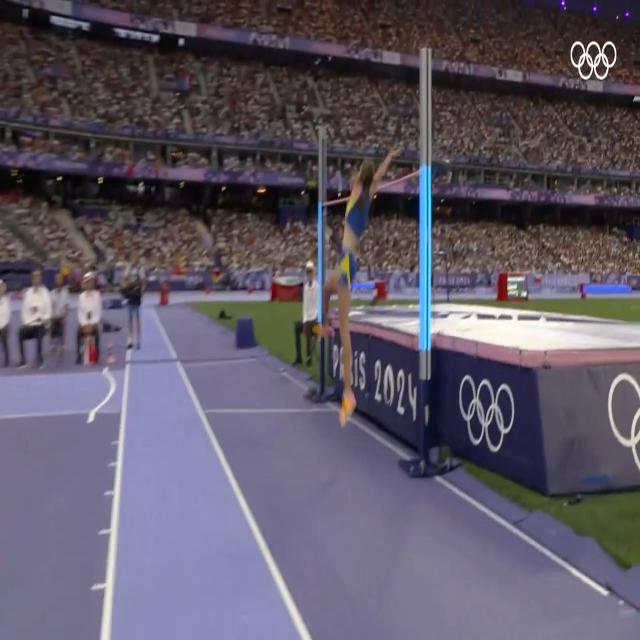jump: (312, 145, 400, 429)
